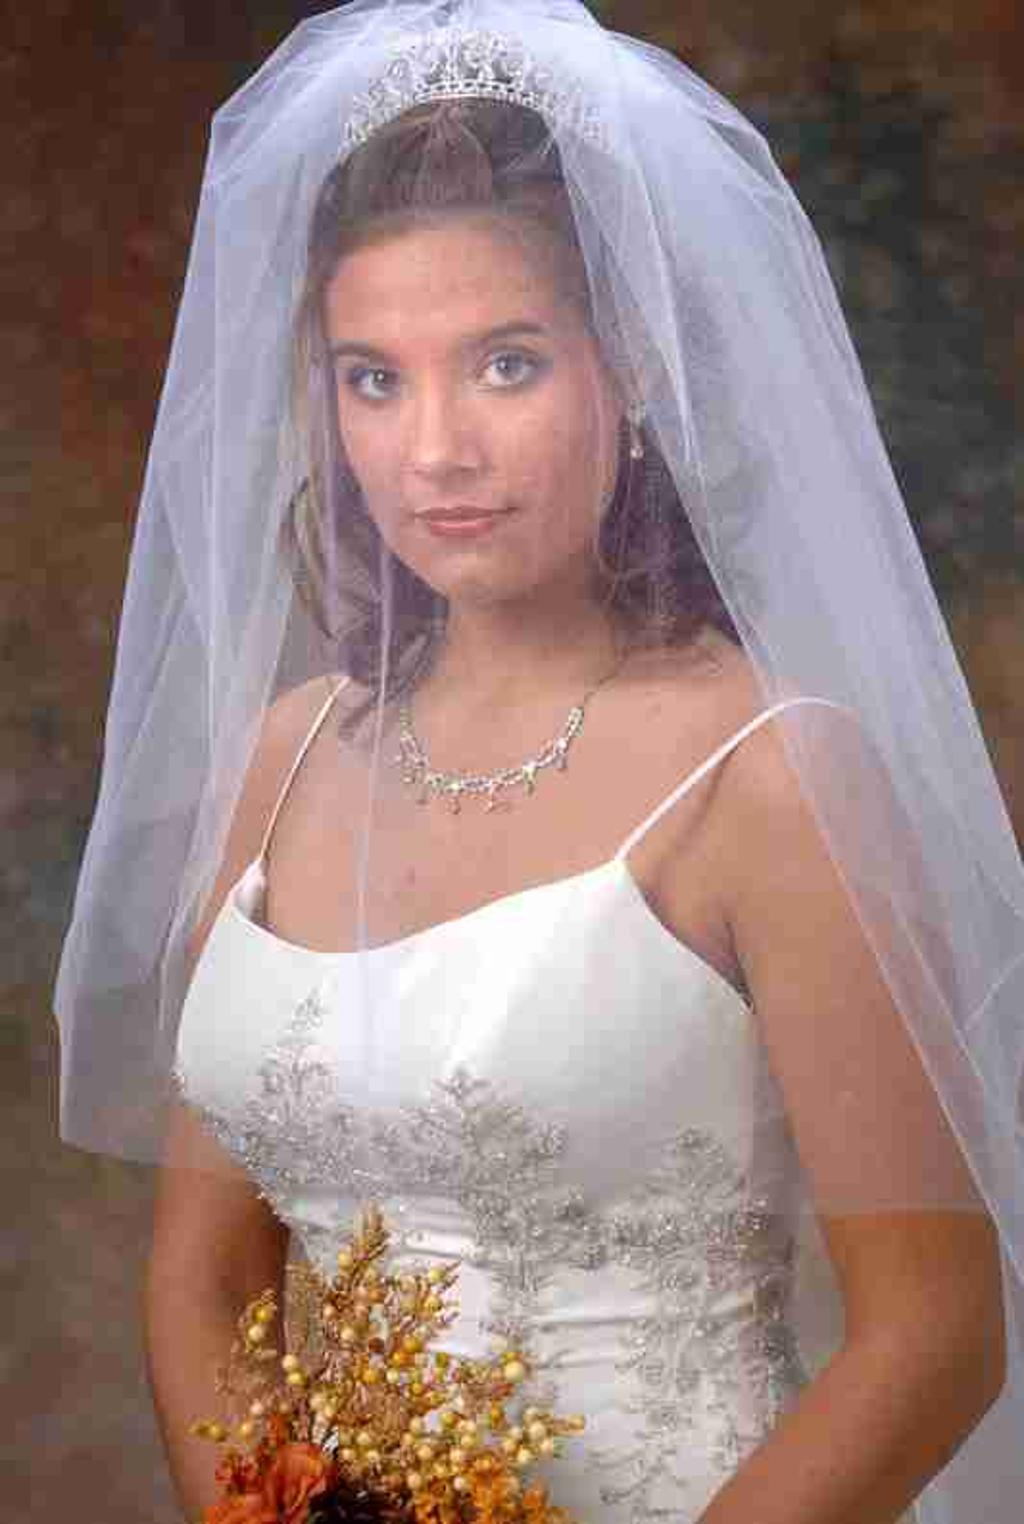face: (319, 220, 626, 604)
